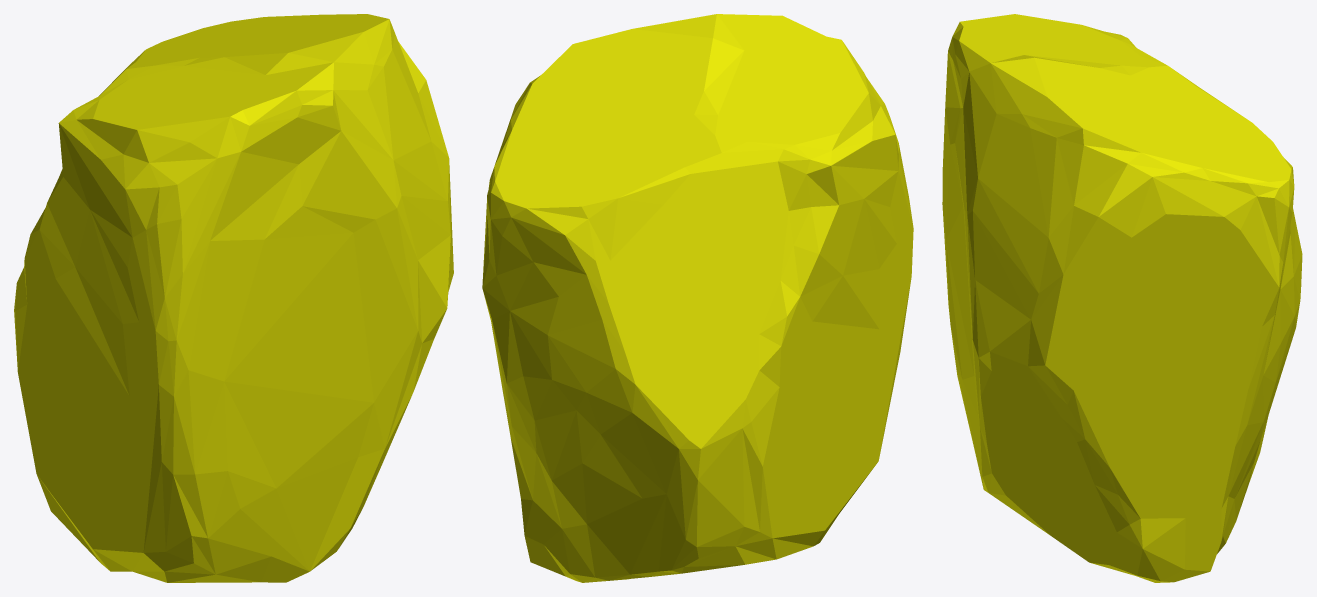
File: trp_rock2.glb
The picture shows the model from 3 angles, left to right: view 1: azimuth 30°, elevation 25°; view 2: azimuth 150°, elevation 25°; view 3: azimuth 270°, elevation 25°; orthographic projection. The views are drawn at different scales.
Visible parts, largest first — view 1: SM_Env_Rock_06; view 2: SM_Env_Rock_06; view 3: SM_Env_Rock_06.
Boxes of the visible parts, x1,y1,x2,y2 form: SM_Env_Rock_06: (14, 14, 453, 582); SM_Env_Rock_06: (482, 14, 913, 582); SM_Env_Rock_06: (942, 14, 1302, 582).
Bounding box in the file's own units: 3.24 × 4.78 × 3.19.
1 material, 1 textured.
